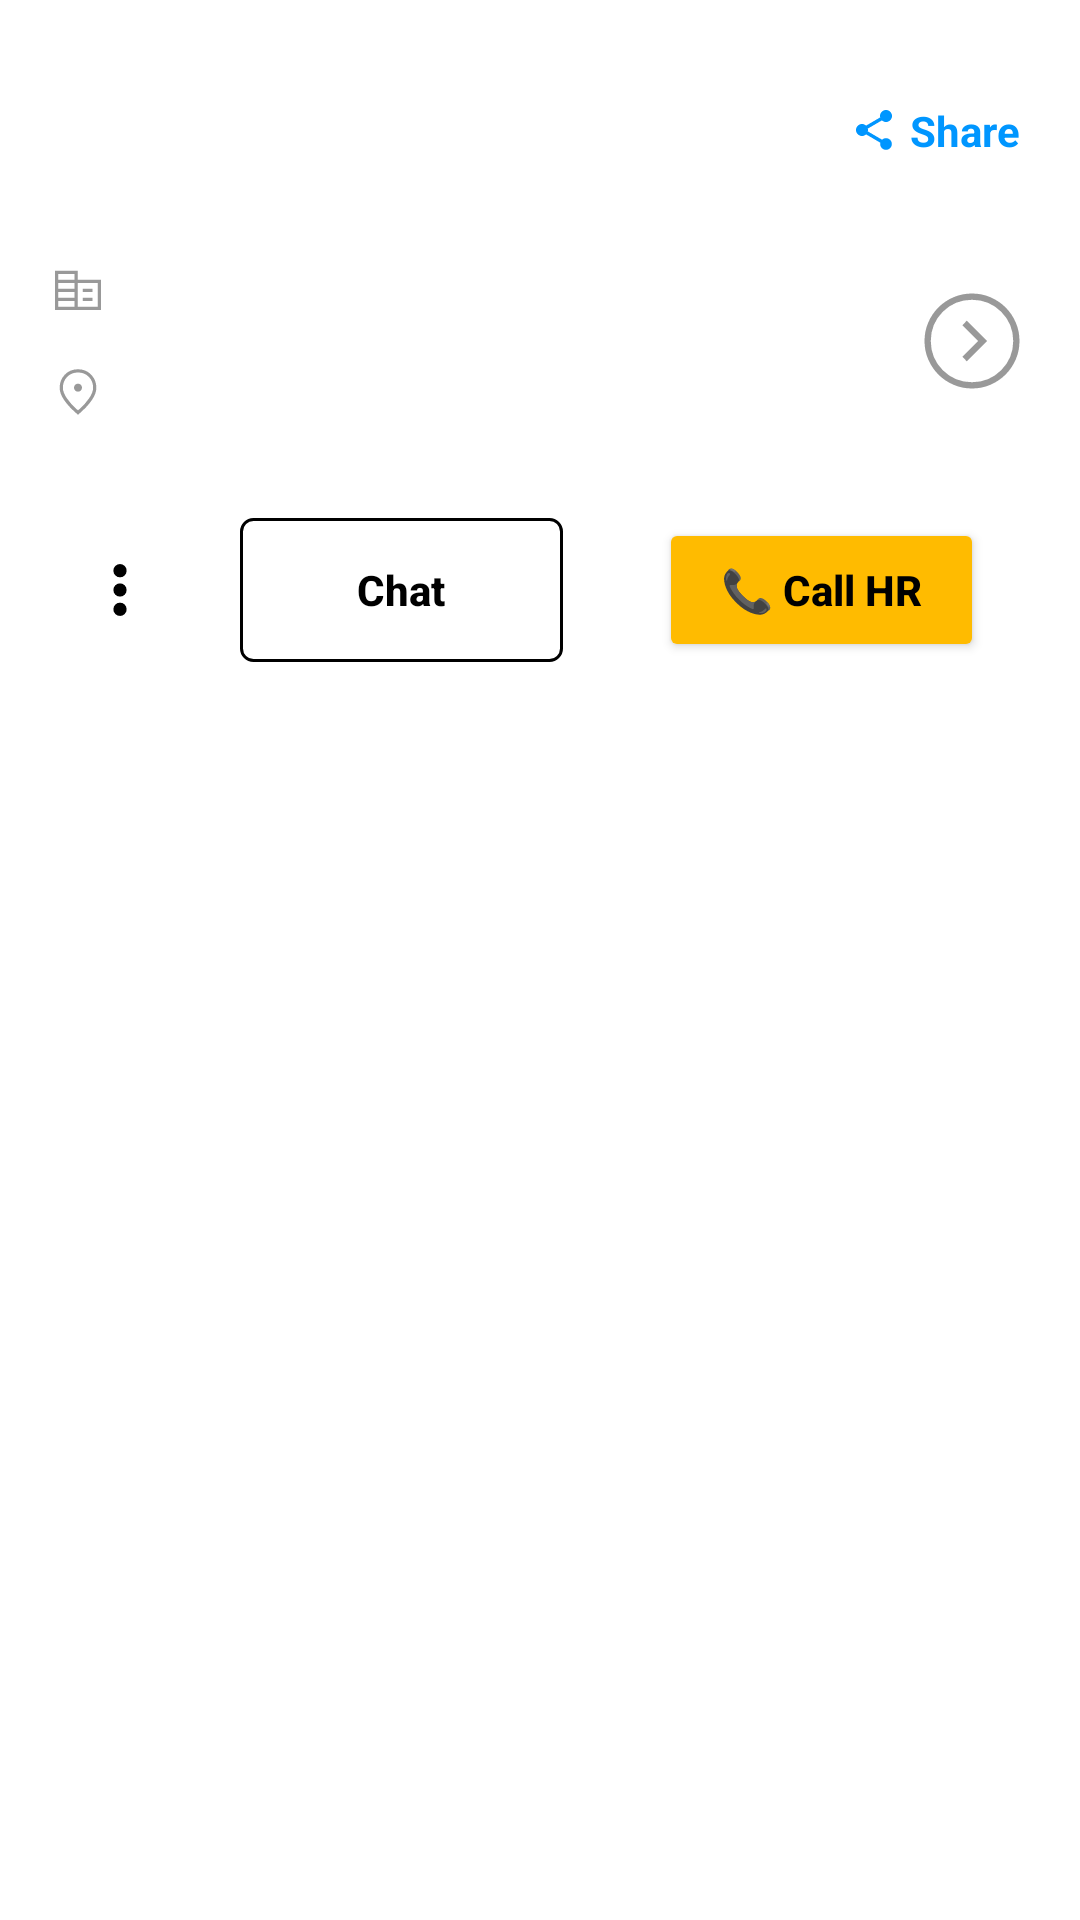

Icon bounding boxes for this 1080px×1920px phone screenshot, format [x1=x1, y1=y1, x2=x2, y2=y2]:
circled right arrow: [x1=924, y1=293, x2=1020, y2=389]
kebab menu: [x1=113, y1=564, x2=127, y2=616]
